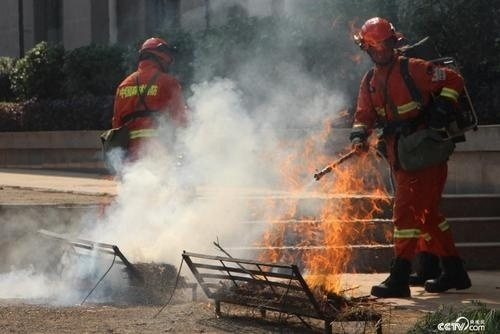fire: (255, 108, 428, 293)
